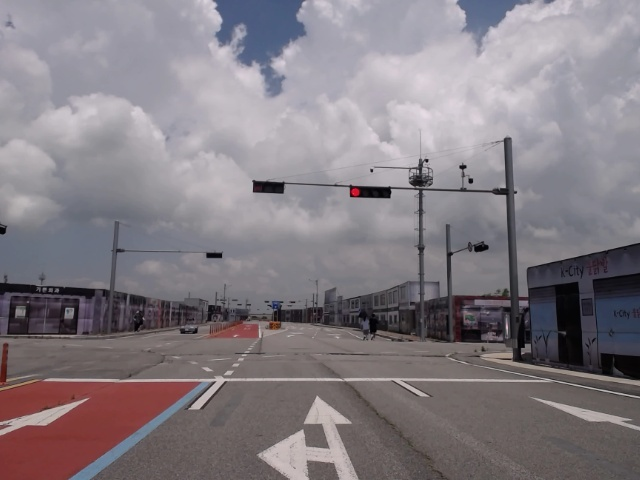red_4: (350, 187, 391, 198)
